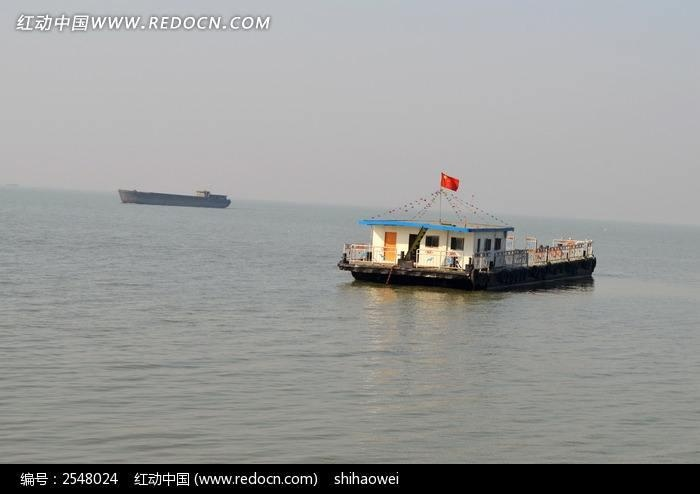otherboat: (333, 164, 599, 289), (117, 183, 234, 209)
